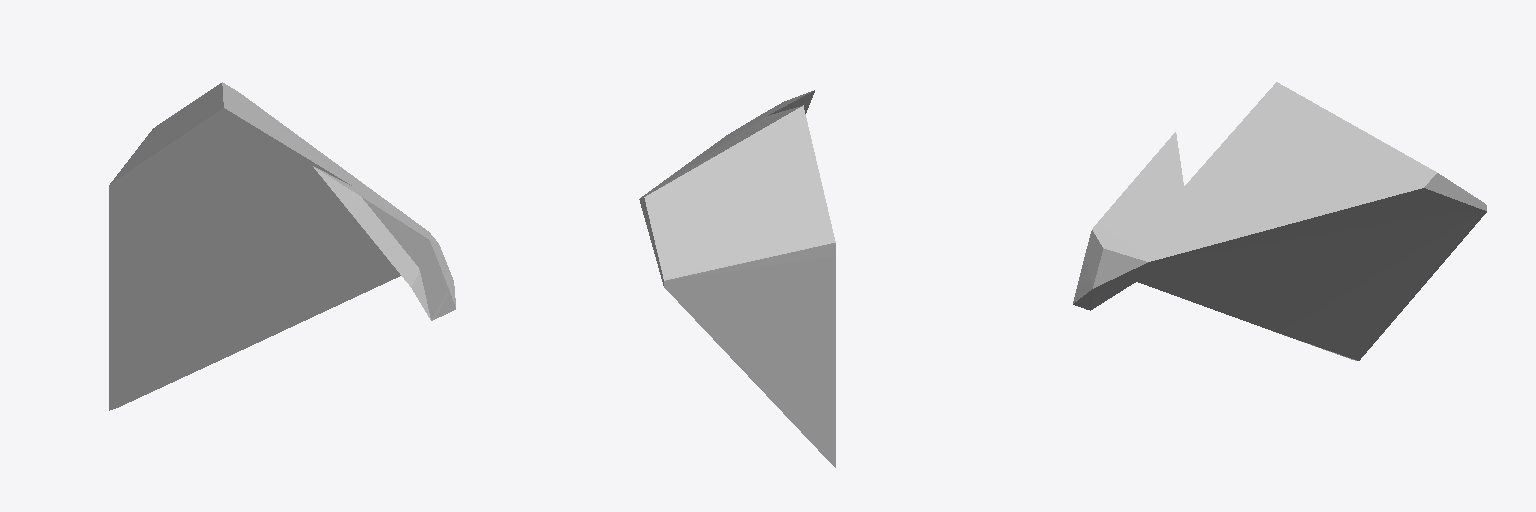
File: li-fang-ti-.001_cell.131.obj
3 renders of one model, left to right at view 1: azimuth 30°, elevation 25°; view 2: azimuth 150°, elevation 25°; view 3: azimuth 270°, elevation 25°, orthographic.
Parts seen in each view (by area): view 1: 立方体.001_cell.131; view 2: 立方体.001_cell.131; view 3: 立方体.001_cell.131.
Part boxes in pixels (bbox=[...]): 立方体.001_cell.131: bbox=[109, 82, 455, 410]; 立方体.001_cell.131: bbox=[639, 90, 835, 467]; 立方体.001_cell.131: bbox=[1073, 82, 1486, 360].
Size of the model in its own units: 0.3838 by 0.5385 by 0.6418.